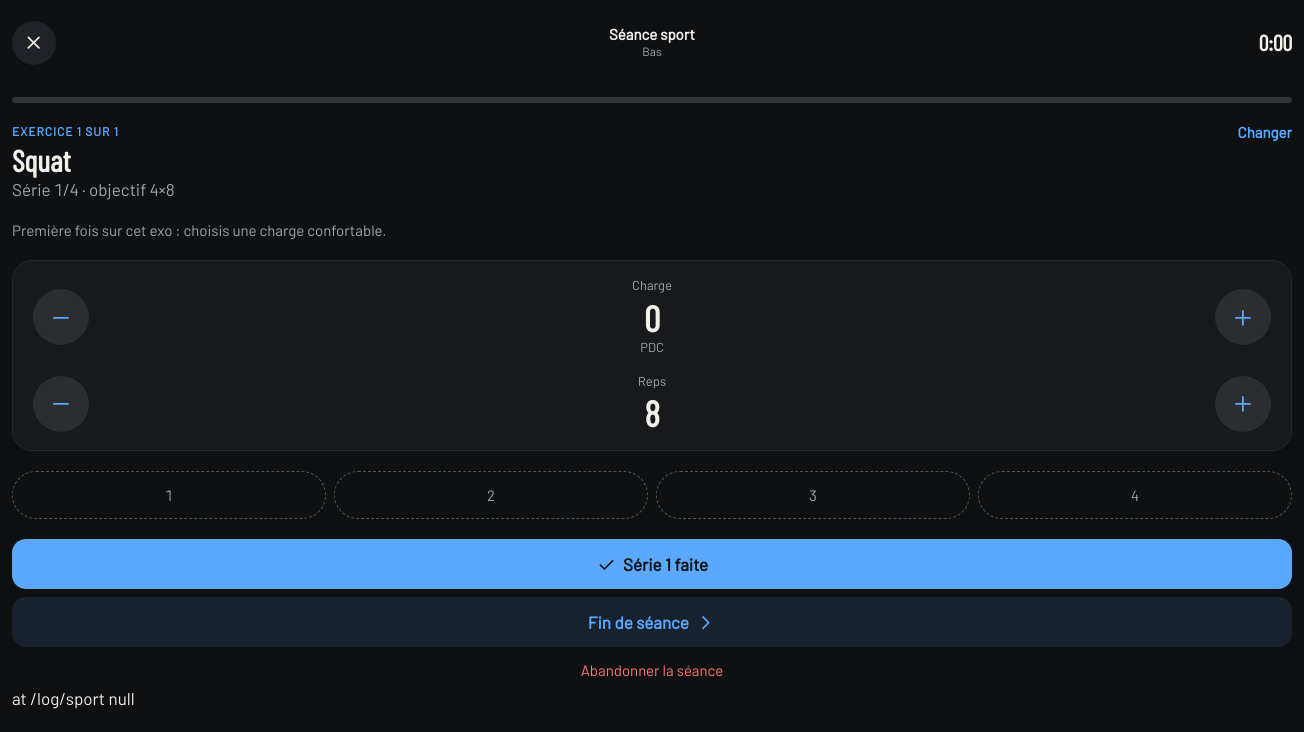
Test case: LogSportPage › « Commencer Bas » depuis l’accueil : directement sur le premier exo, « Changer » pour choisir
Check: the heading "Squat" is shown, box [12,142,70,178]
Check: the text "at /log/sport null" is shown, box [12,688,135,708]
Click the button "Changer".
click(1265, 132)  # box [1238,122,1292,142]
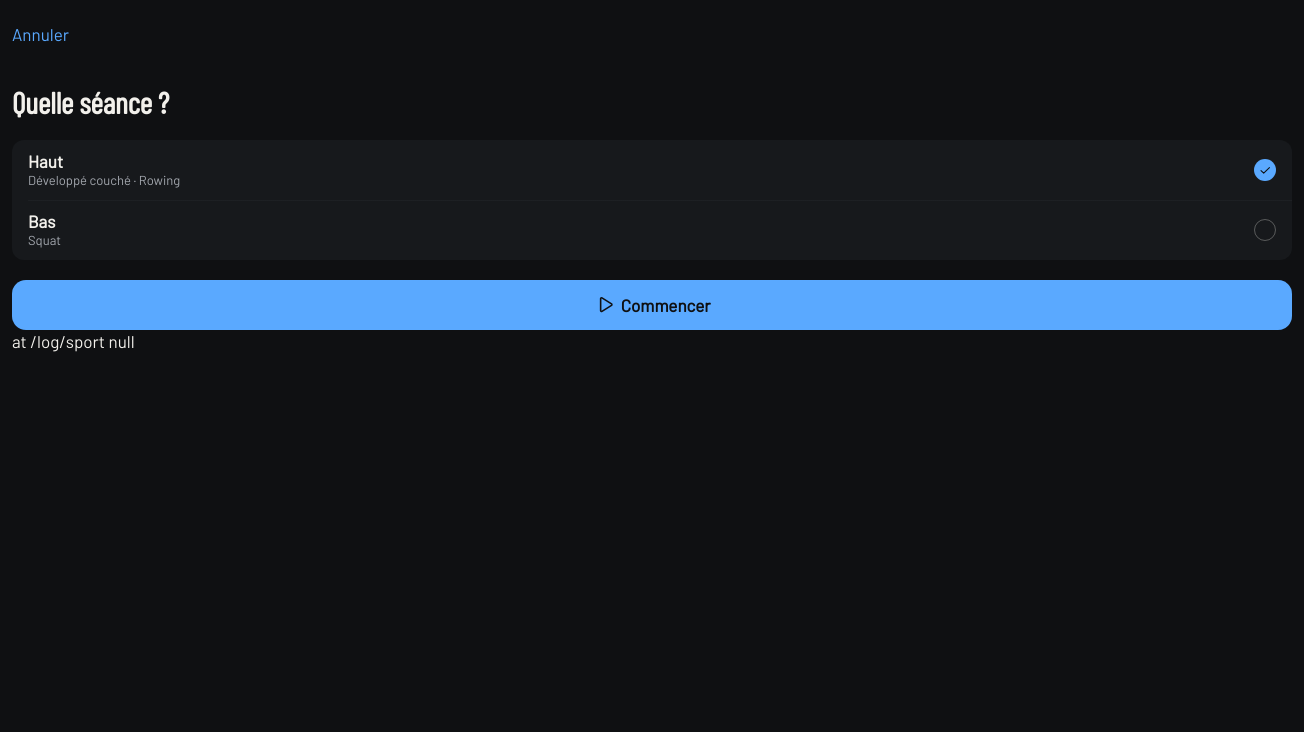
Check: the heading "Quelle séance ?" is shown, box [12,84,169,120]
